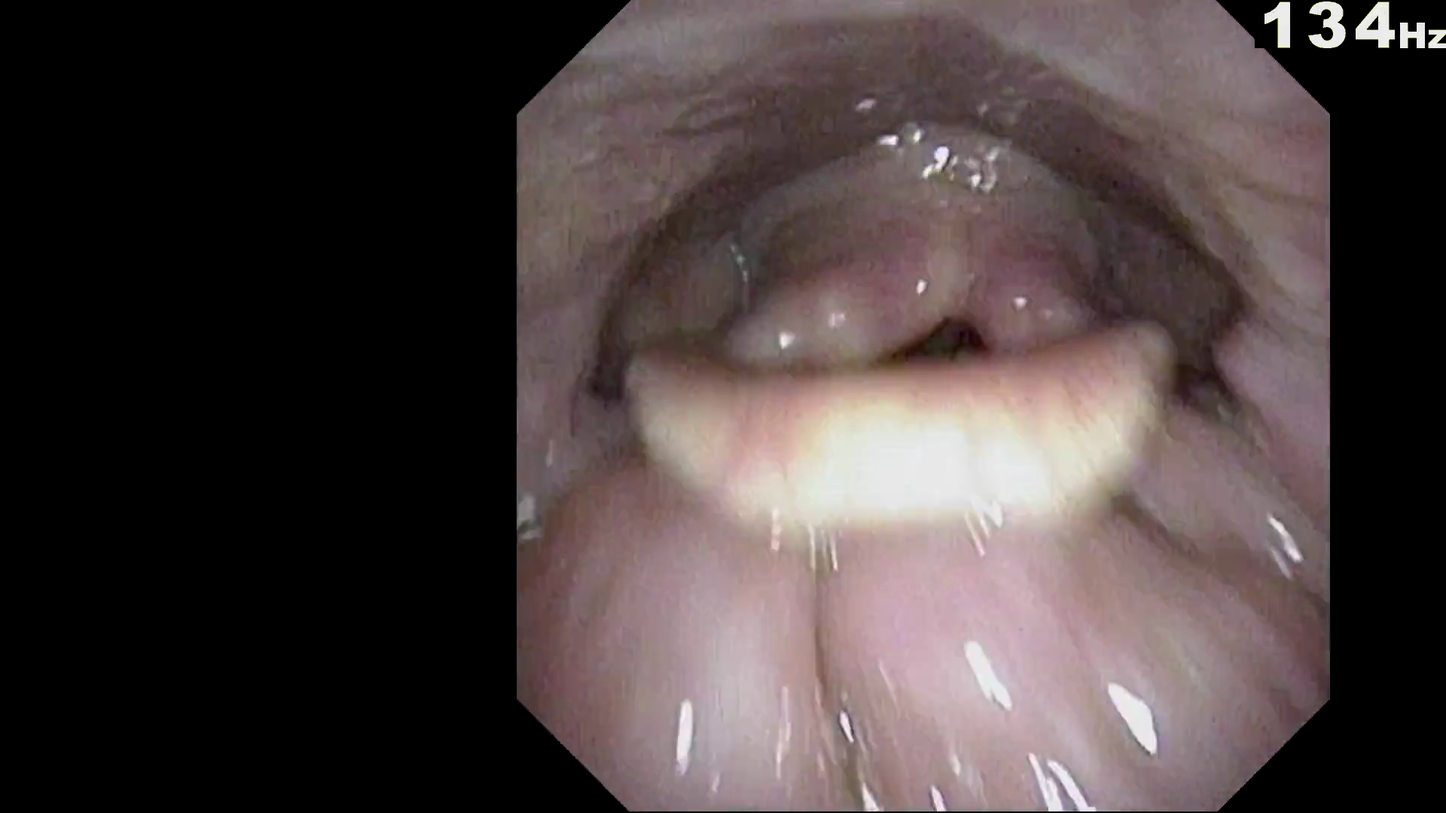epiglottis: (608, 369, 1187, 619)
